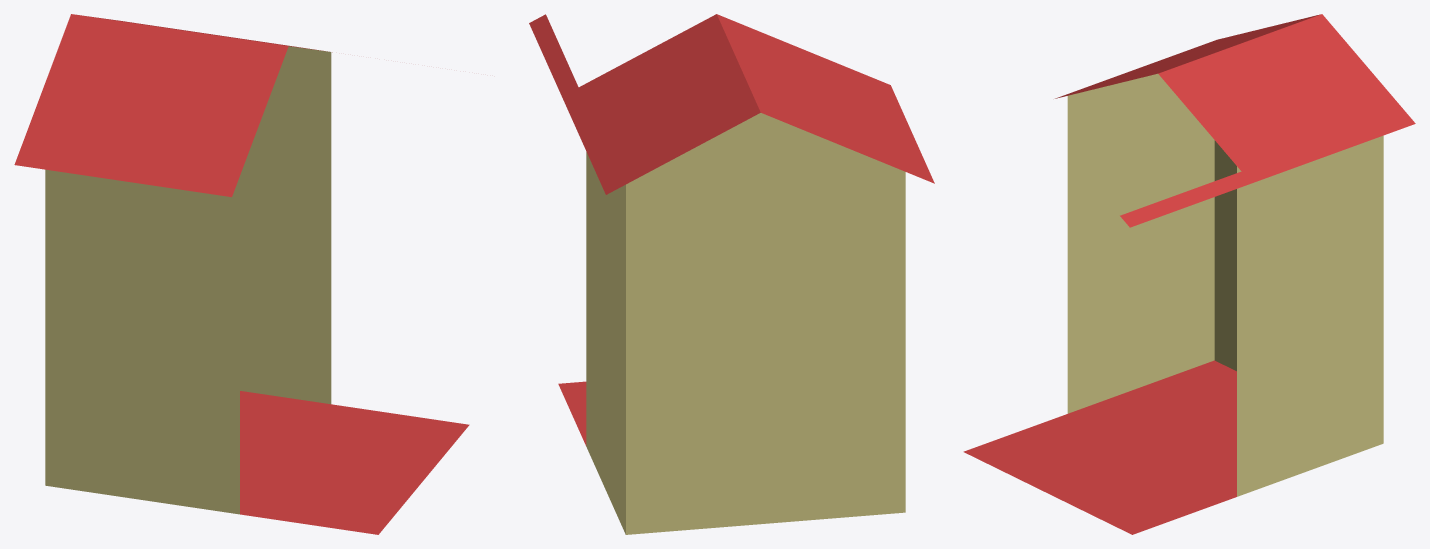
3 renders of one model, left to right at view 1: azimuth 30°, elevation 25°; view 2: azimuth 150°, elevation 25°; view 3: azimuth 270°, elevation 25°, orthographic. The views are drawn at different scales.
Size of the model in its own units: 10.49 by 9.95 by 9.33.
